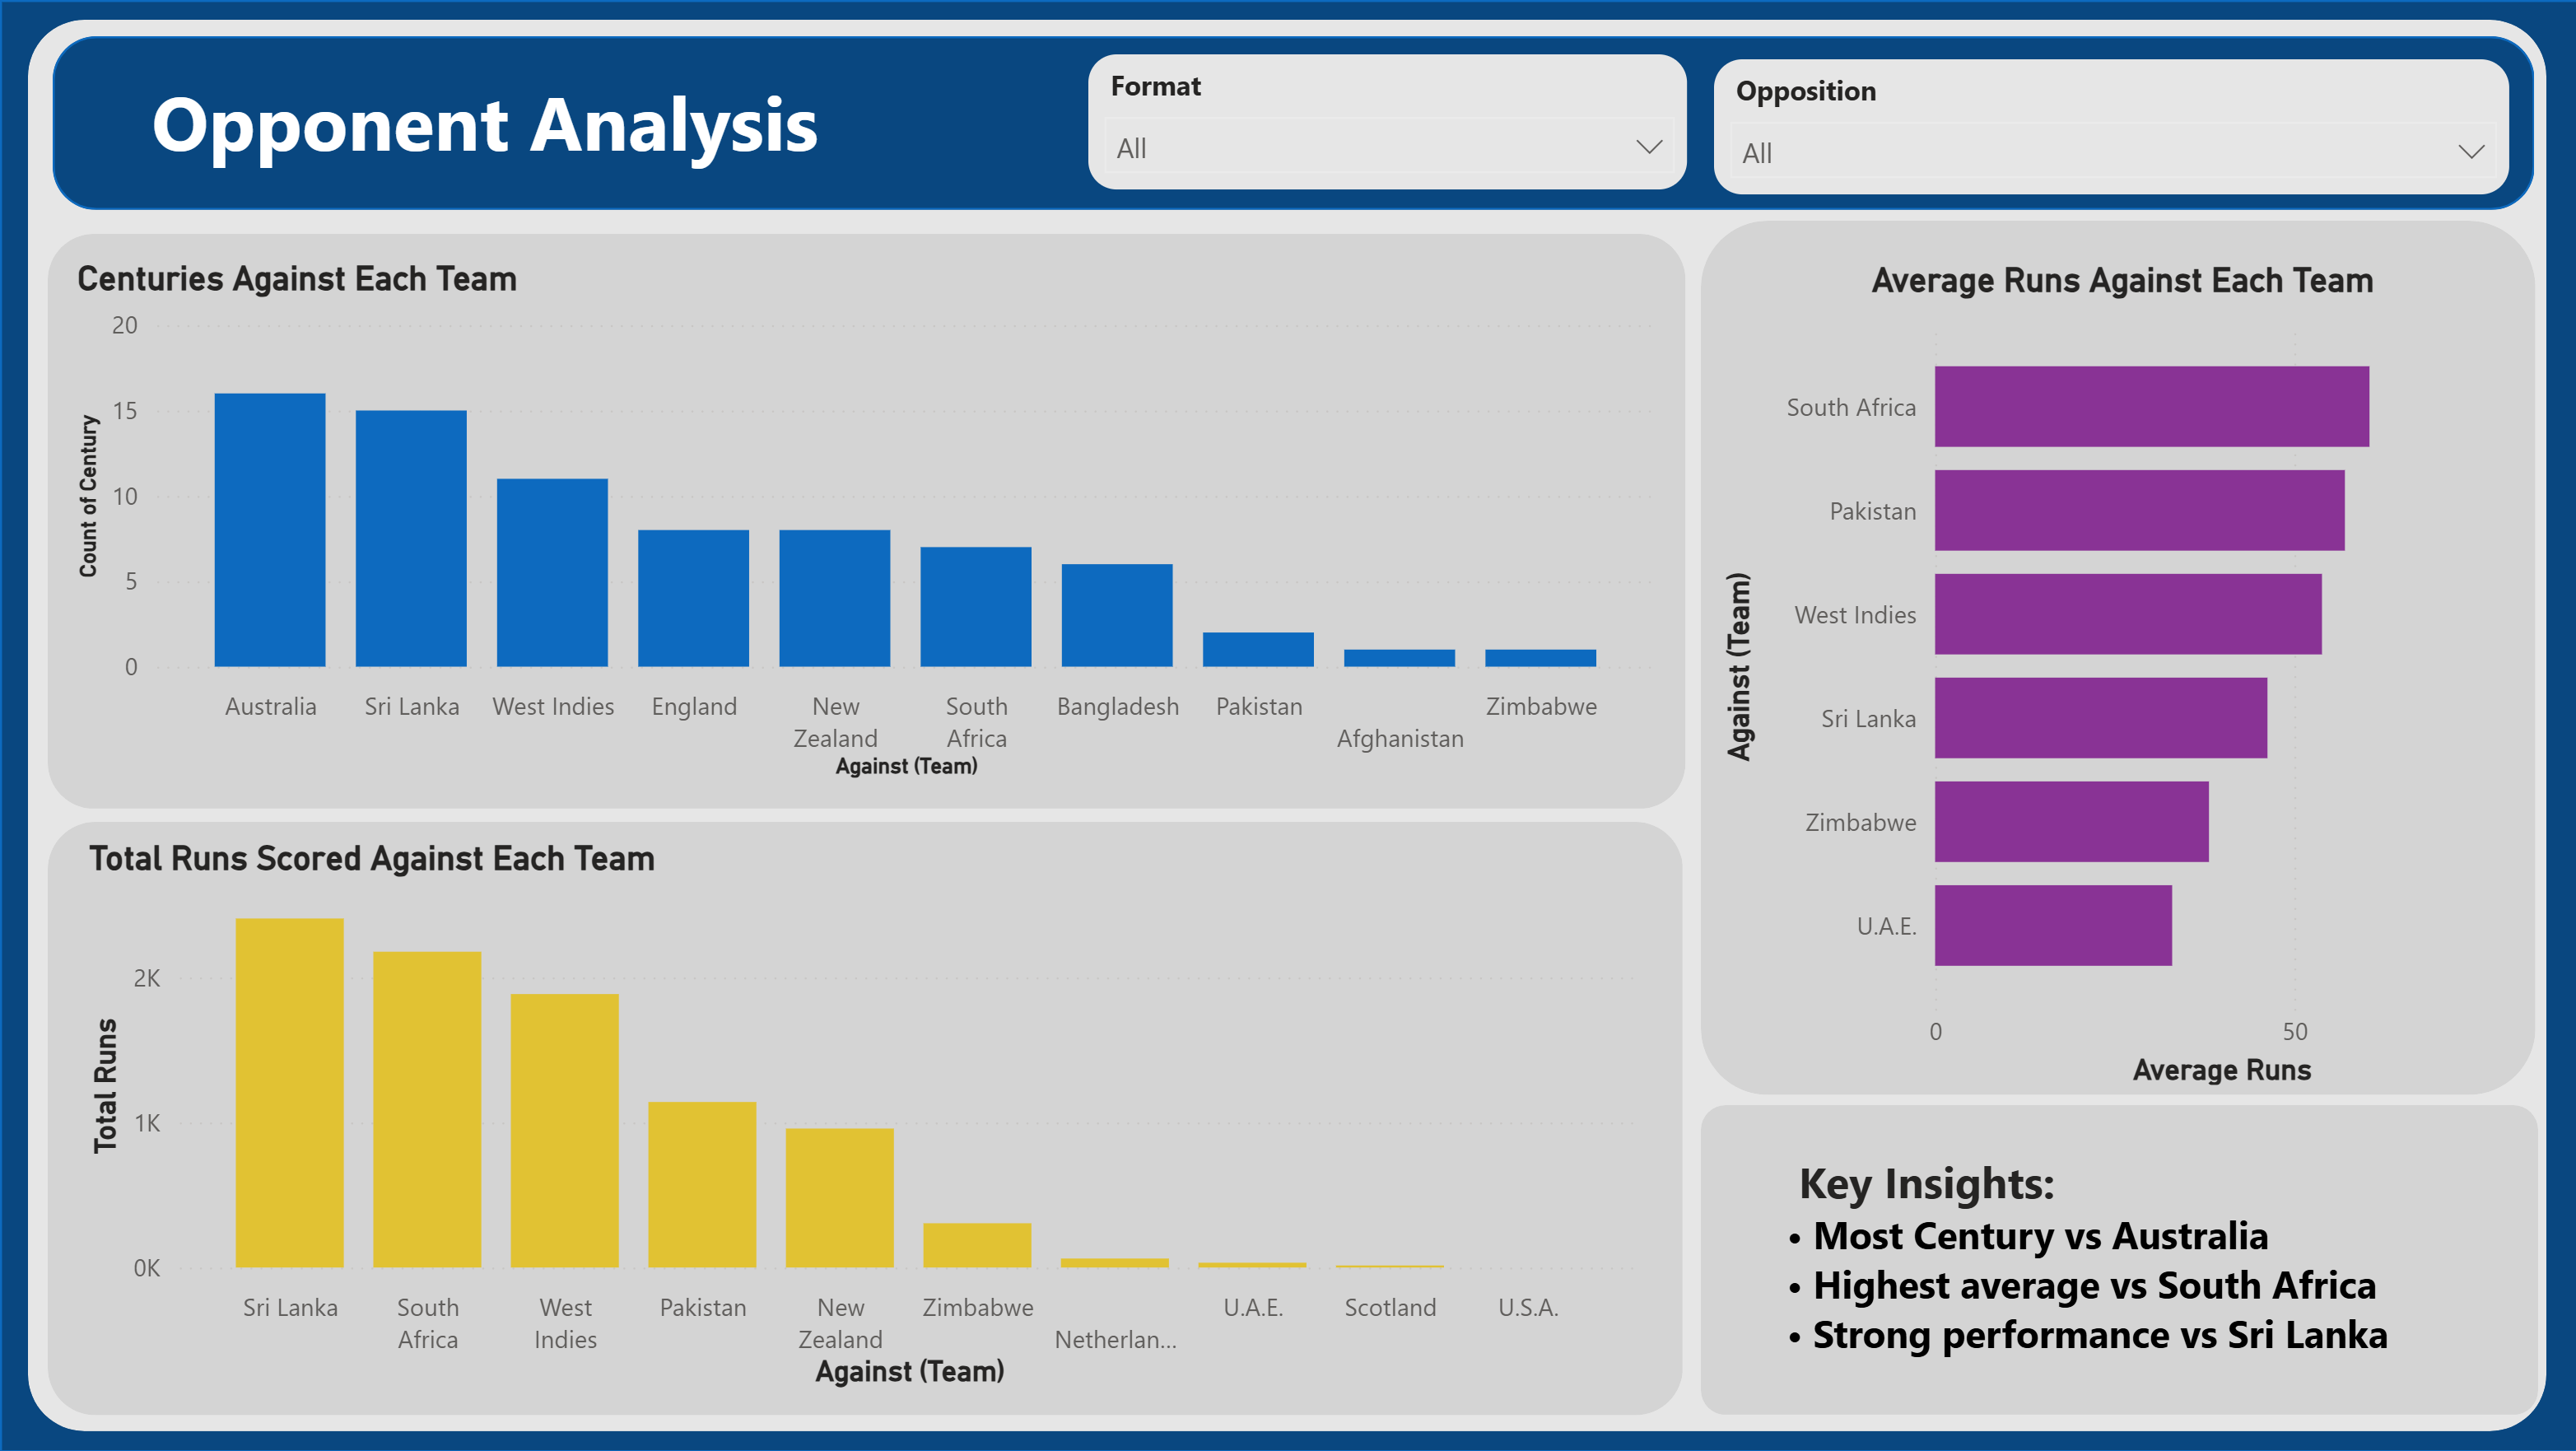

This screenshot's page, from the dashboard's own definition file:
{"tool":"powerbi","page":{"name":"3","canvas":[1280,720],"ordinal":2},"visuals":[{"type":"shape","box":[0,0,1279.7,720.3],"z":0},{"type":"shape","box":[13.9,10.1,1249.4,700],"z":1000},{"type":"shape","box":[23.4,407.6,811.2,294.3],"z":2000},{"type":"shape","box":[843.8,109.4,414.1,433.6],"z":3000},{"type":"shape","box":[23.4,115.9,812.5,285.2],"z":4000},{"type":"shape","box":[843.8,548.2,415.4,153.7],"z":5000},{"type":"clusteredColumnChart","title":"Centuries Against Each Team","fields":{"Category":["Sheet1.Against"],"Y":["CountNonNull(Sheet1.Century)"]},"box":[33.3,127.9,792.5,262.4],"z":6000},{"type":"barChart","title":"Average Runs Against Each Team","fields":{"Category":["Sheet2.Opposition"],"Y":["Sheet1.Avg Roouns"]},"box":[849.8,129.2,407.6,414.2],"z":7000},{"type":"clusteredColumnChart","title":"Total Runs Scored Against Each Team","fields":{"Y":["Sheet1.Total Runs"],"Category":["Sheet2.Opposition"]},"box":[39.1,415.4,778.7,277.4],"z":8000},{"type":"shape","box":[26.1,18.1,1231.2,86.2],"z":9000},{"type":"textbox","box":[70.3,29.5,365.1,61.2],"z":10000},{"type":"slicer","fields":{"Values":["Sheet1 (2).Format"]},"box":[539.7,27.2,297,66.9],"z":11000},{"type":"slicer","fields":{"Values":["Sheet1 (2).Opposition"]},"box":[850.3,29.5,394.5,66.9],"z":12000},{"type":"textbox","box":[881.7,566.1,347.6,135.9],"z":13000}]}

Visuals, with their boxes in screenshot pixels (x1, y1, x2, y2), scaled from the page's 1280x720 canvas onto the 2576x1451 screenshot:
shape: <region>0, 0, 2575, 1450</region>
shape: <region>28, 21, 2542, 1431</region>
shape: <region>47, 821, 1679, 1415</region>
shape: <region>1698, 221, 2532, 1094</region>
shape: <region>47, 234, 1682, 809</region>
shape: <region>1698, 1105, 2534, 1415</region>
"Centuries Against Each Team" clusteredColumnChart: <region>67, 258, 1662, 786</region>
"Average Runs Against Each Team" barChart: <region>1710, 260, 2531, 1095</region>
"Total Runs Scored Against Each Team" clusteredColumnChart: <region>79, 837, 1646, 1396</region>
shape: <region>53, 36, 2531, 210</region>
textbox: <region>142, 59, 876, 183</region>
slicer - Sheet1 (2).Format: <region>1086, 55, 1684, 189</region>
slicer - Sheet1 (2).Opposition: <region>1712, 59, 2505, 194</region>
textbox: <region>1774, 1141, 2474, 1415</region>
